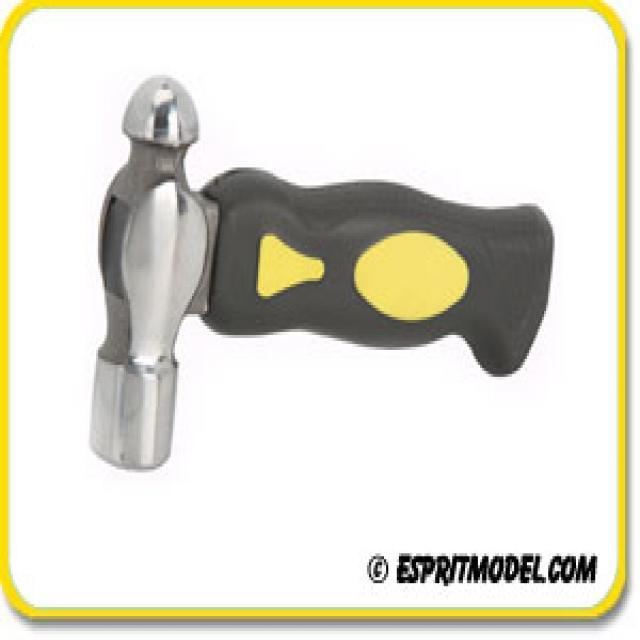hammer: (65, 58, 563, 500)
